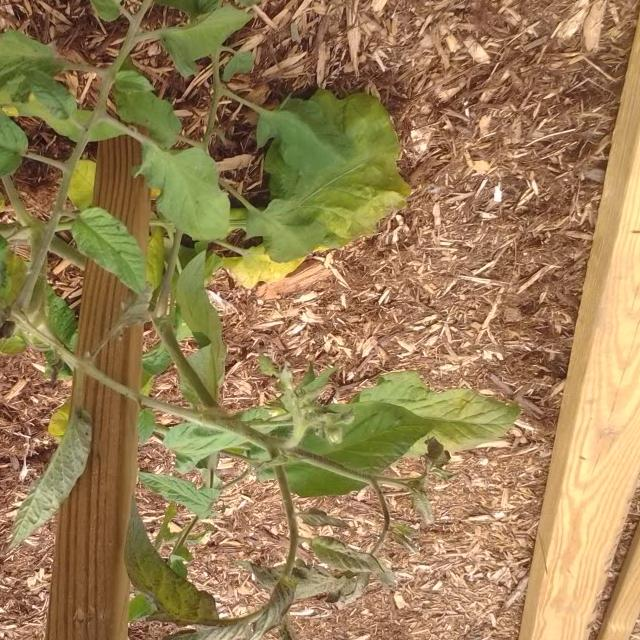Tomato leaf: (364, 372, 529, 454), (129, 127, 227, 262), (0, 114, 12, 319)
